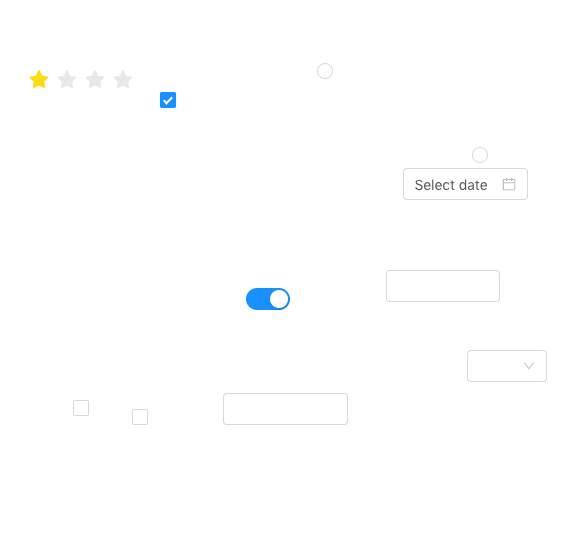Checkbox: (132, 406, 148, 427), (160, 89, 176, 110), (73, 397, 89, 418)
DatePicker: (403, 168, 528, 200)
Input: (223, 393, 348, 425), (386, 270, 500, 302)
Radio: (317, 60, 333, 80), (472, 144, 488, 164)
Rate: (29, 63, 149, 95)
Select: (467, 350, 547, 382)
Switch: (246, 287, 290, 311)
